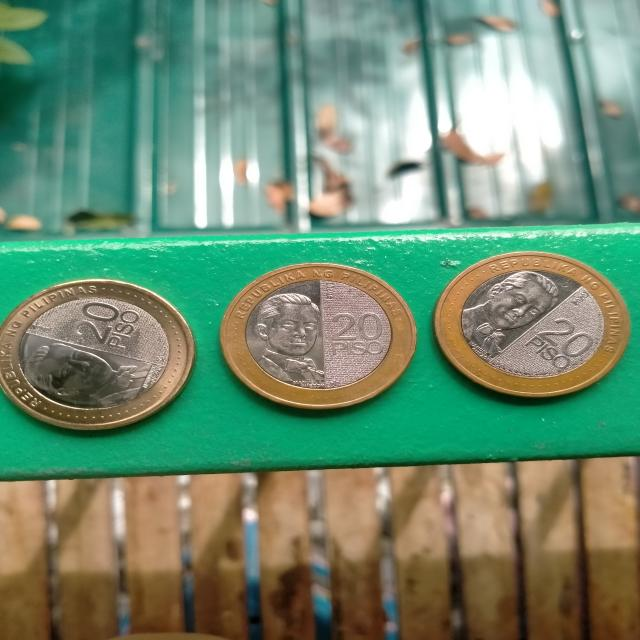20_New_Front: (68, 294, 153, 356), (521, 316, 592, 368), (330, 311, 387, 356)
